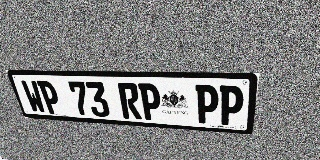3: (85, 82, 111, 117)
7: (67, 81, 93, 116)
P: (218, 85, 245, 126), (195, 85, 219, 124), (138, 83, 162, 121), (36, 81, 63, 114)
R: (117, 83, 142, 119)
W: (20, 80, 47, 113)
